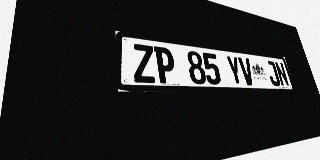5: (202, 52, 222, 85)
8: (186, 50, 207, 84)
J: (265, 60, 281, 86)
N: (274, 62, 290, 86)
P: (153, 46, 177, 84)
V: (238, 57, 256, 85)
Y: (225, 55, 244, 85)
Z: (132, 43, 156, 83)
